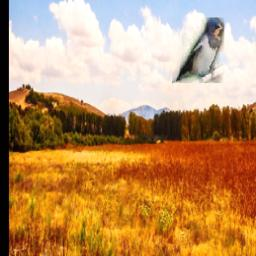Swallow: (173, 18, 225, 83)
